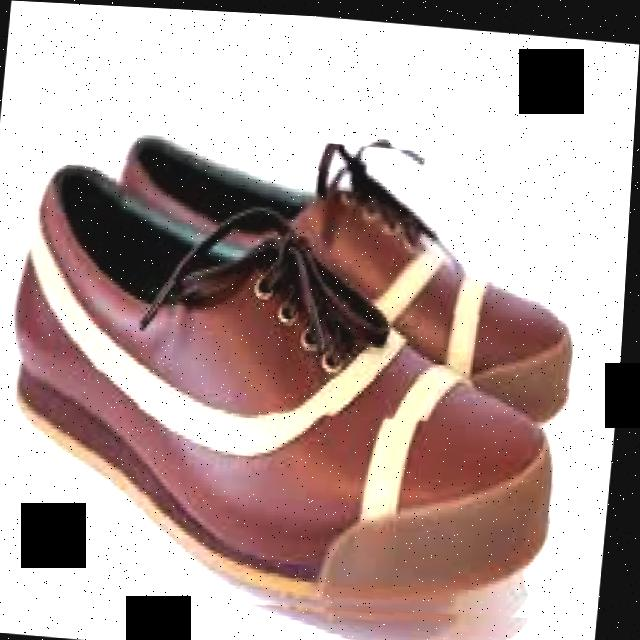shoe: (0, 158, 592, 633), (99, 123, 593, 437)
